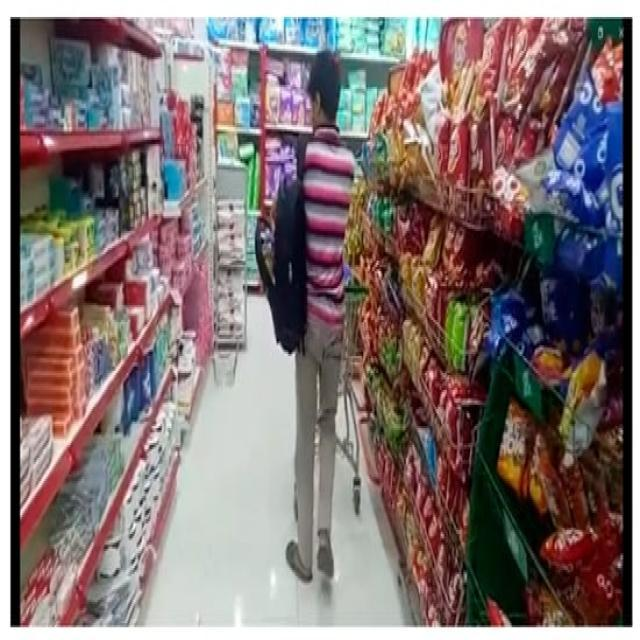Normal: (239, 39, 384, 580)
